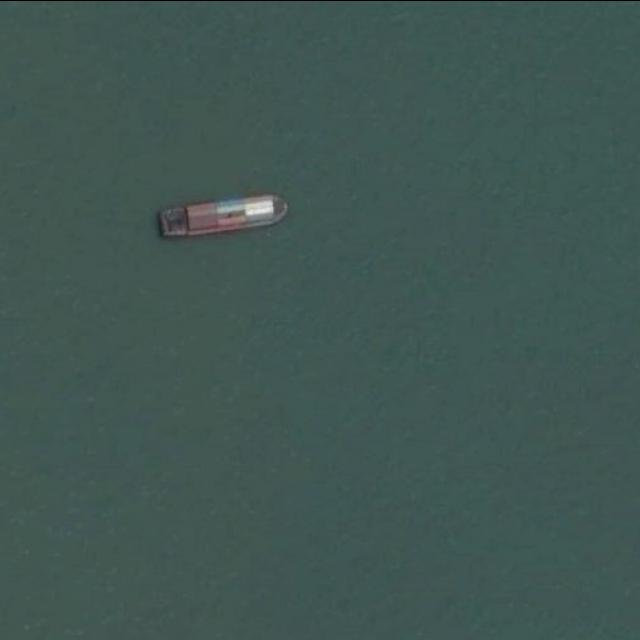ship: (156, 190, 290, 238)
